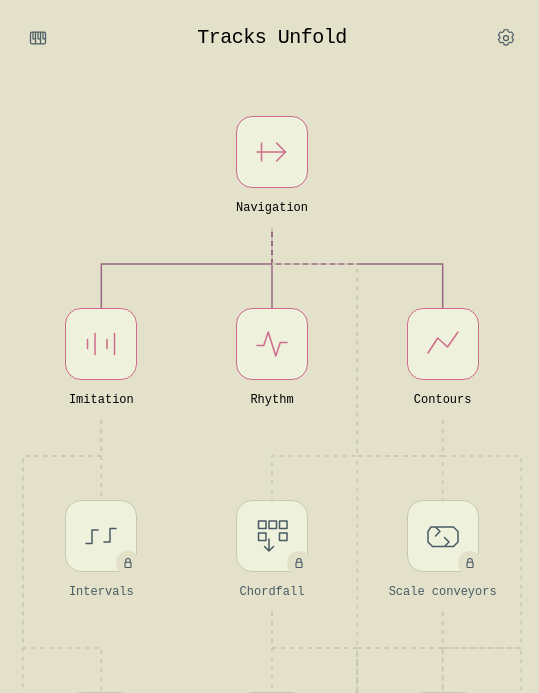
it: App › opens Imitation as a playable second area at 20% Navigation progress
The image size is (539, 693).
Click the button "Imitation".
click(101, 364)  # box [16,308,187,420]
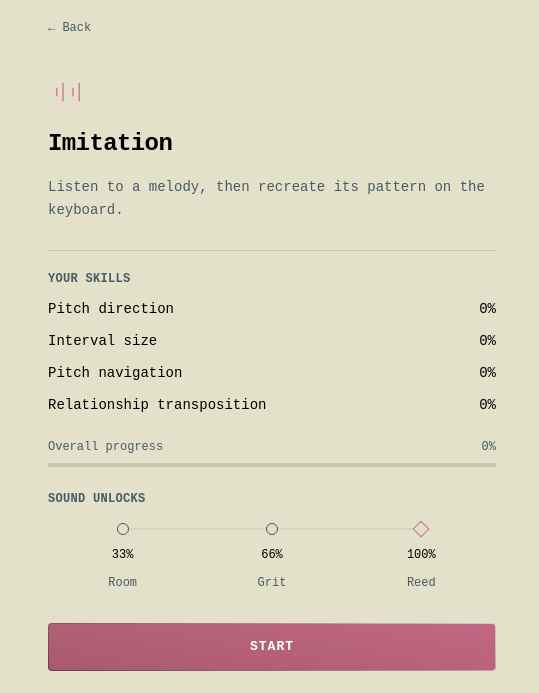
Expected: the heading "Imitation" is shown, [48,130,172,157]
Expected: the button "Start" is enabled, [48,622,496,670]
Expected: the button "← Back" is enabled, [48,16,91,40]
